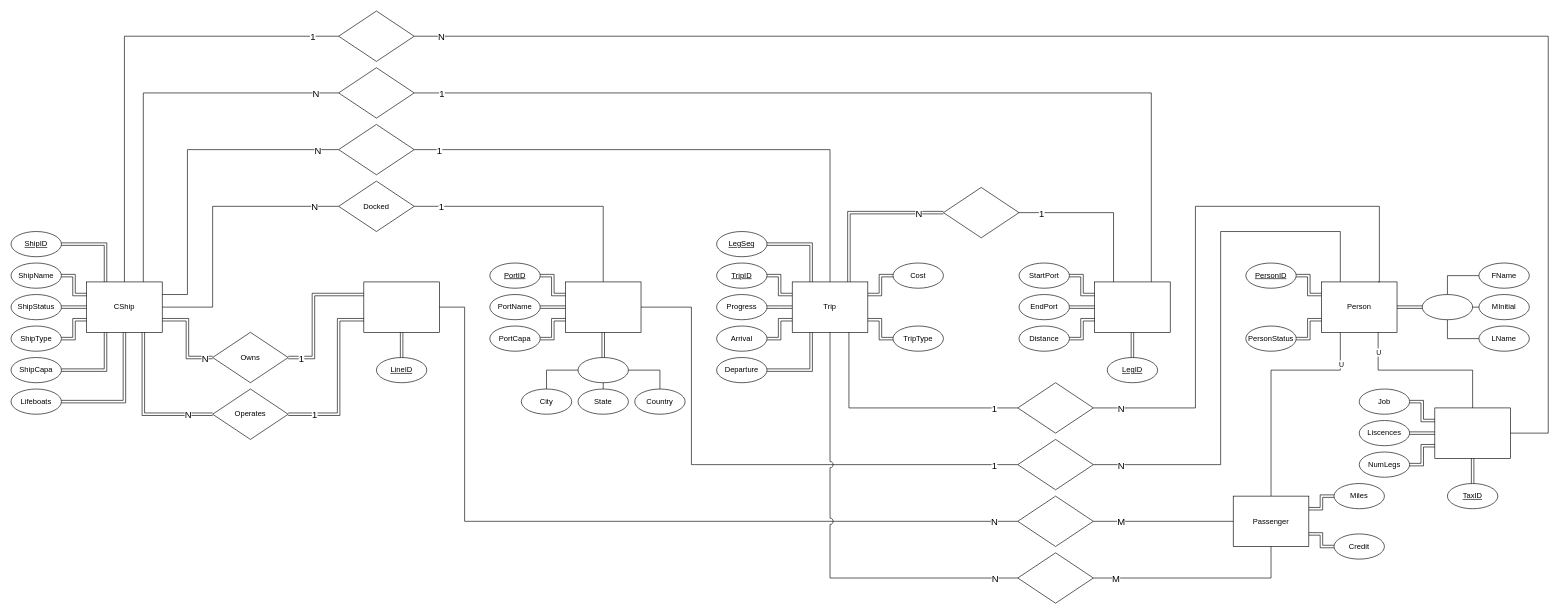
Some shapes in this 1560 by 614 pixel diagram are drawn without their labels. Each missing label, with the centre of its shape:
"Associated" belongs at point (1055, 521).
"AtLeg" belongs at point (376, 92).
"AtPort" belongs at point (1055, 464).
"Booked" belongs at point (1055, 577).
"CLine" belongs at point (401, 306).
"Commands" belongs at point (376, 35).
"Crew" belongs at point (1472, 432).
"Includes" belongs at point (981, 212).
"Onboard" belongs at point (1055, 407).
"OnTrip" belongs at point (376, 149).
"PersonName" belongs at point (1447, 307).
"Port" belongs at point (603, 306).
"PortAddress" belongs at point (602, 370).
"TripLeg" belongs at point (1132, 306).
